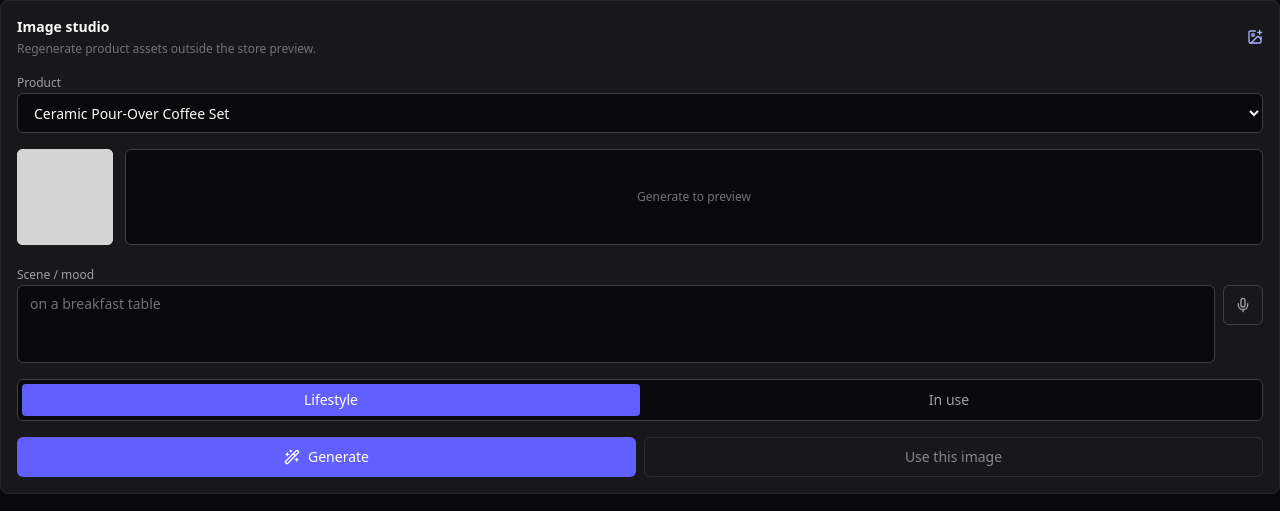
it: ImageStudio › transcribes microphone input into the image prompt
Click the button named "Record image prompt": x=1243, y=305 top-left (1223, 285), bottom-right (1263, 325)
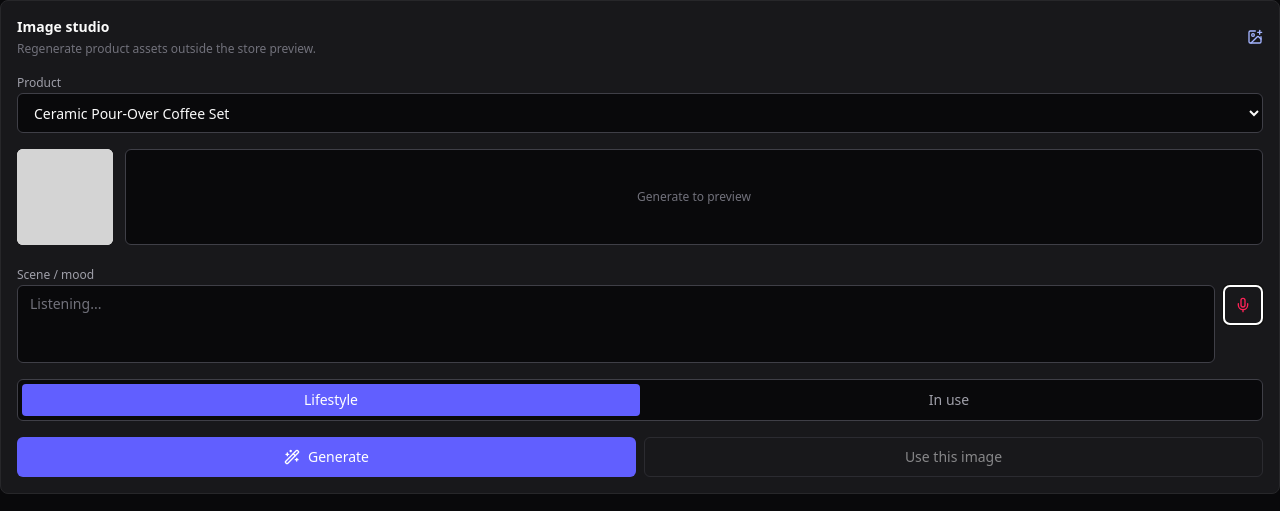
Check: the text box with placeholder "Listening..." is shown, box top-left (17, 285), bottom-right (1215, 363)
Click the button named "Stop recording image prompt": x=1243, y=305 top-left (1223, 285), bottom-right (1263, 325)
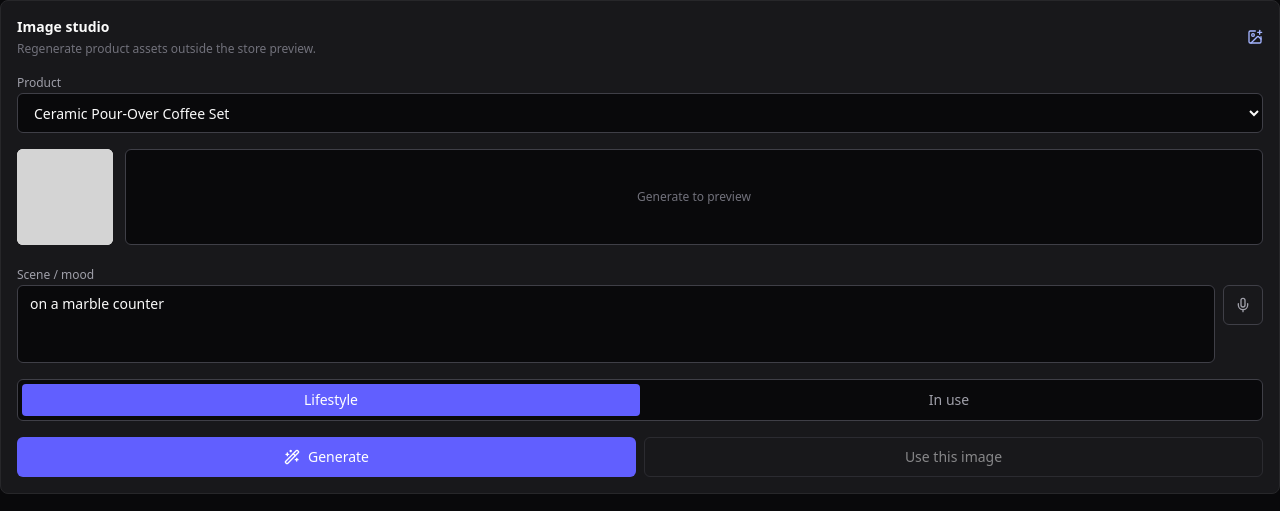
Check: the text box showing "on a marble counter" is shown, box top-left (17, 285), bottom-right (1215, 363)
